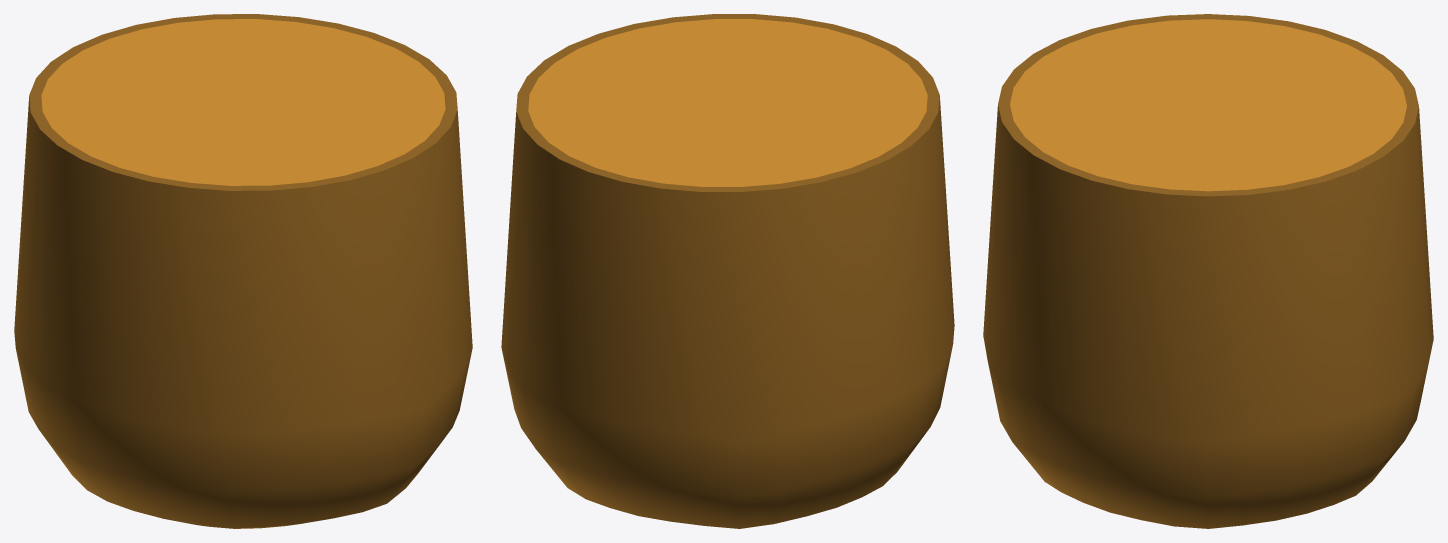
Rendered from tree 20%.fbx.
3 renders of one model, left to right at view 1: azimuth 30°, elevation 25°; view 2: azimuth 150°, elevation 25°; view 3: azimuth 270°, elevation 25°, orthographic.
Parts seen in each view (by area): view 1: Cylinder.117; view 2: Cylinder.117; view 3: Cylinder.117.
Boxes of the visible parts, x1=… form: Cylinder.117: x1=14, y1=14, x2=472, y2=528; Cylinder.117: x1=501, y1=14, x2=954, y2=528; Cylinder.117: x1=983, y1=14, x2=1433, y2=528.
Size of the model in its own units: 1896 by 1709 by 1896.
